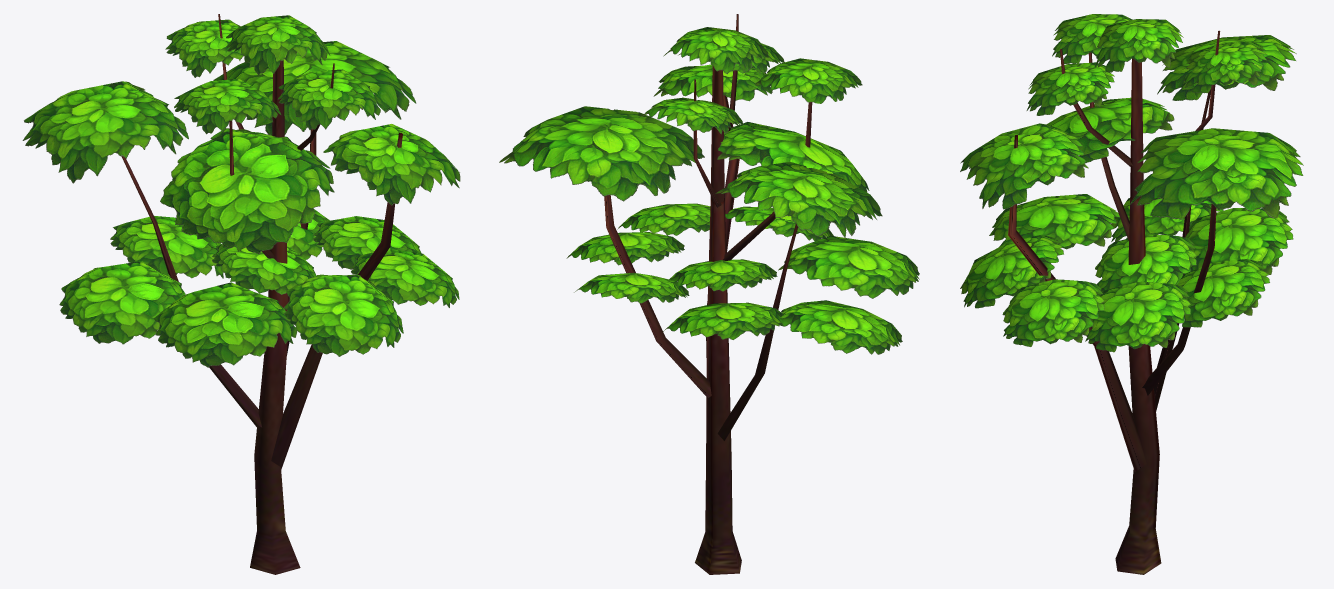
Rendered from Tree03.fbx.
The picture shows the model from 3 angles, left to right: view 1: azimuth 30°, elevation 25°; view 2: azimuth 150°, elevation 25°; view 3: azimuth 270°, elevation 25°; orthographic projection.
Parts seen in each view (by area): view 1: polySurface518; view 2: polySurface518; view 3: polySurface518.
Boxes of the visible parts, bbox=[...] form: polySurface518: bbox=[22, 14, 460, 574]; polySurface518: bbox=[499, 14, 919, 574]; polySurface518: bbox=[960, 14, 1303, 574].
Bounding box in the file's own units: 3.33 × 4.54 × 2.79.
